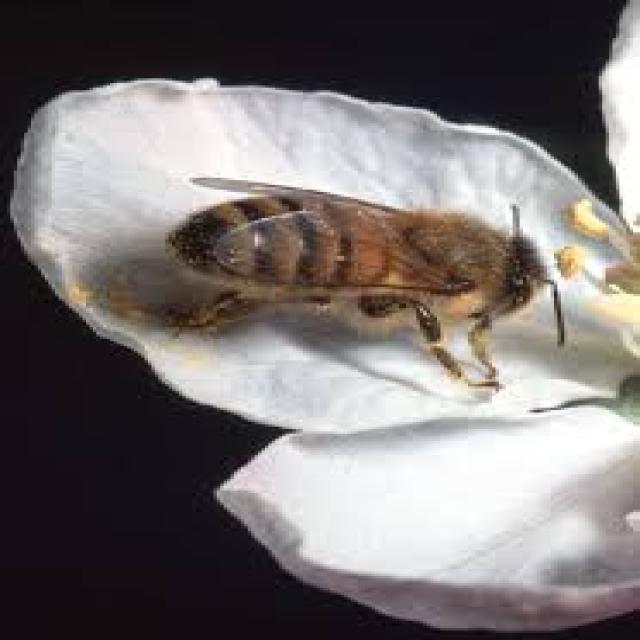Bees: (163, 173, 568, 394)
